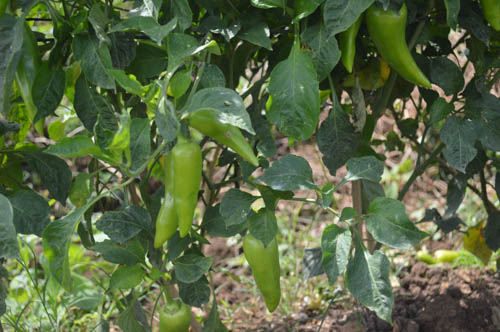ChiliPepper: (368, 14, 429, 86), (172, 146, 212, 238), (240, 236, 285, 308), (198, 109, 257, 163), (152, 171, 174, 247)
